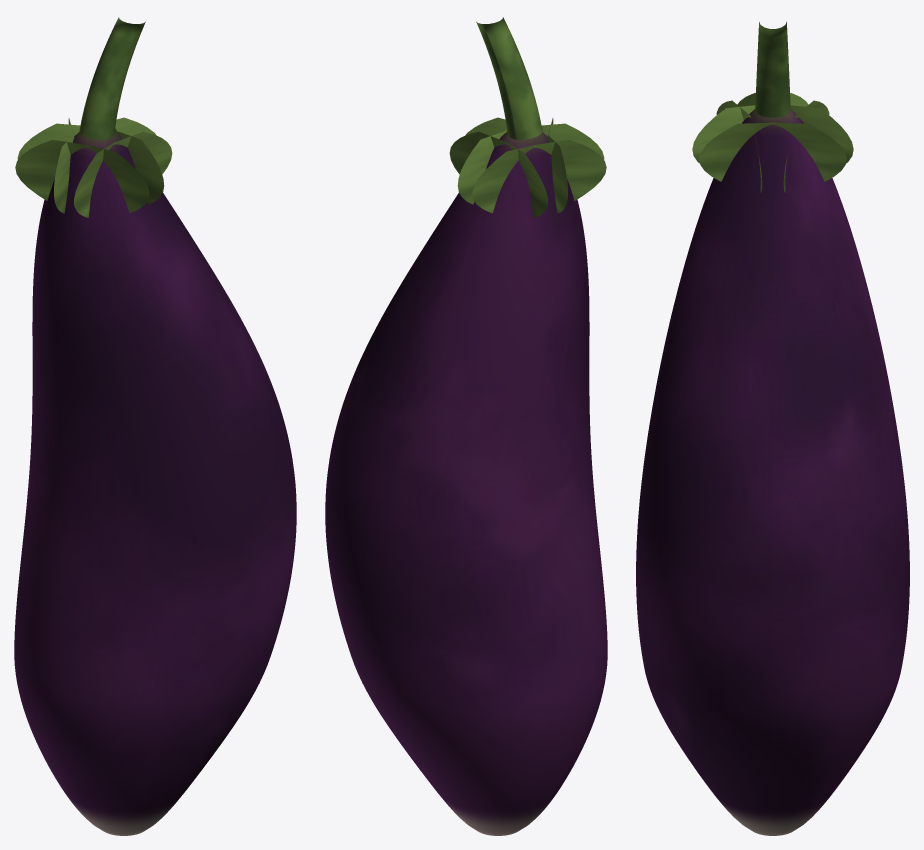
File: bringelle.glb
3 views of the same model, side by side, from view 1: azimuth 30°, elevation 25°; view 2: azimuth 150°, elevation 25°; view 3: azimuth 270°, elevation 25° (orthographic).
Parts seen in each view (by area): view 1: moitie_A_peau, entier_peau, moitie_B_peau, entier_extra5, entier_extra2, entier_extra1, entier_extra0, entier_extra4, entier_extra3; view 2: moitie_B_peau, entier_peau, moitie_A_peau, entier_extra5, entier_extra3, entier_extra4, entier_extra0, entier_extra1, entier_extra2; view 3: entier_peau, moitie_A_peau, moitie_B_peau, entier_extra0, entier_extra5, entier_extra2, entier_extra3.
Part boxes in pixels (x1,y1,x2,y2): moitie_A_peau: (31,132,296,835); entier_peau: (14,132,296,835); moitie_B_peau: (14,132,92,824); entier_extra5: (79,17,145,139); entier_extra2: (15,139,149,213); entier_extra1: (74,131,172,217); entier_extra0: (115,129,164,204); entier_extra4: (17,117,156,159); entier_extra3: (54,118,74,213); moitie_B_peau: (325,132,590,835); entier_peau: (325,132,607,835); moitie_A_peau: (529,132,607,824); entier_extra5: (476,17,542,139); entier_extra3: (472,139,606,213); entier_extra4: (449,131,547,217); entier_extra0: (457,129,506,204); entier_extra1: (465,117,604,159); entier_extra2: (547,118,567,213); entier_peau: (636,109,909,835); moitie_A_peau: (636,109,772,835); moitie_B_peau: (773,109,909,835); entier_extra0: (699,122,846,181); entier_extra5: (755,21,790,117); entier_extra2: (692,93,808,163); entier_extra3: (737,93,853,163).
Size of the model in its own units: 0.0725 by 0.2282 by 0.0693.
4 materials, 4 textured.
